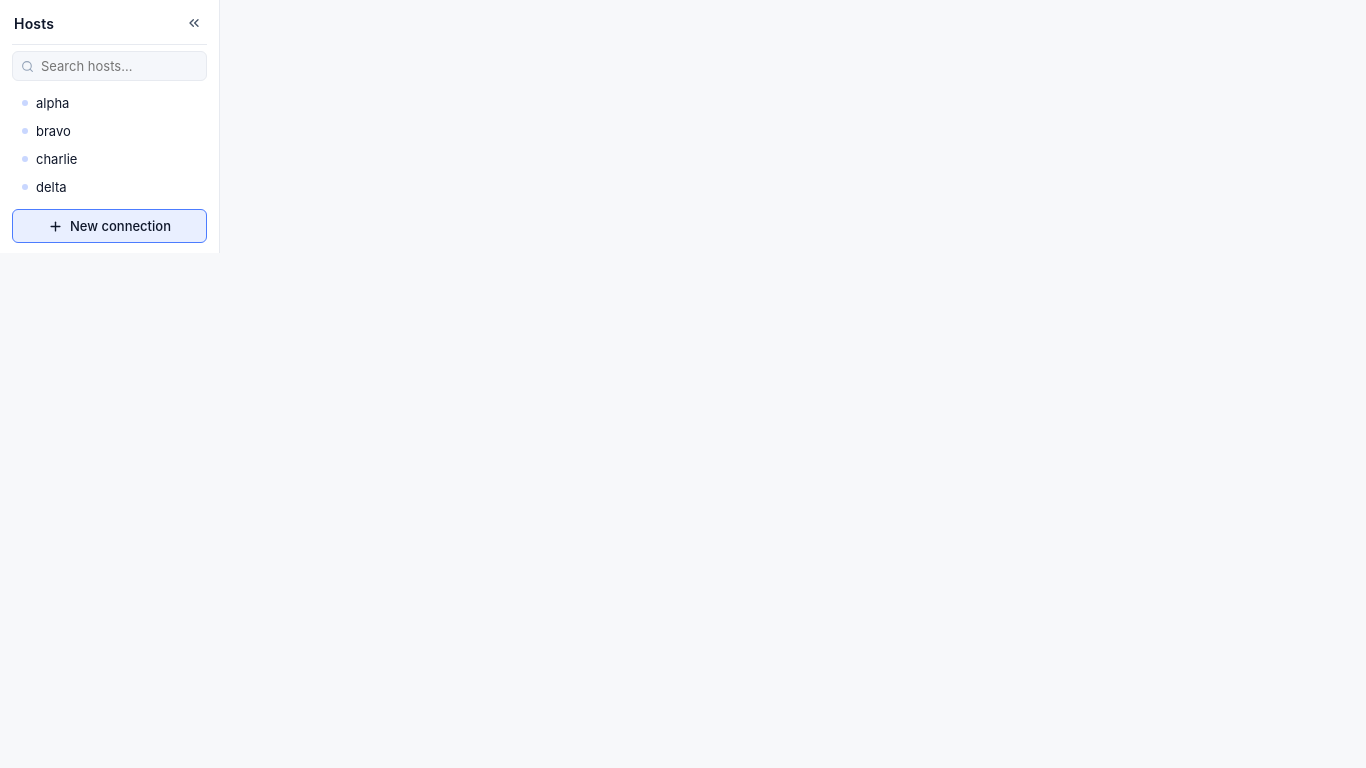
Test: Drawer multi-select › deletes every picked host after one confirmation
Type keys "{Control>}"
Click the button "alpha" at (94, 103), box [14,89,175,117]
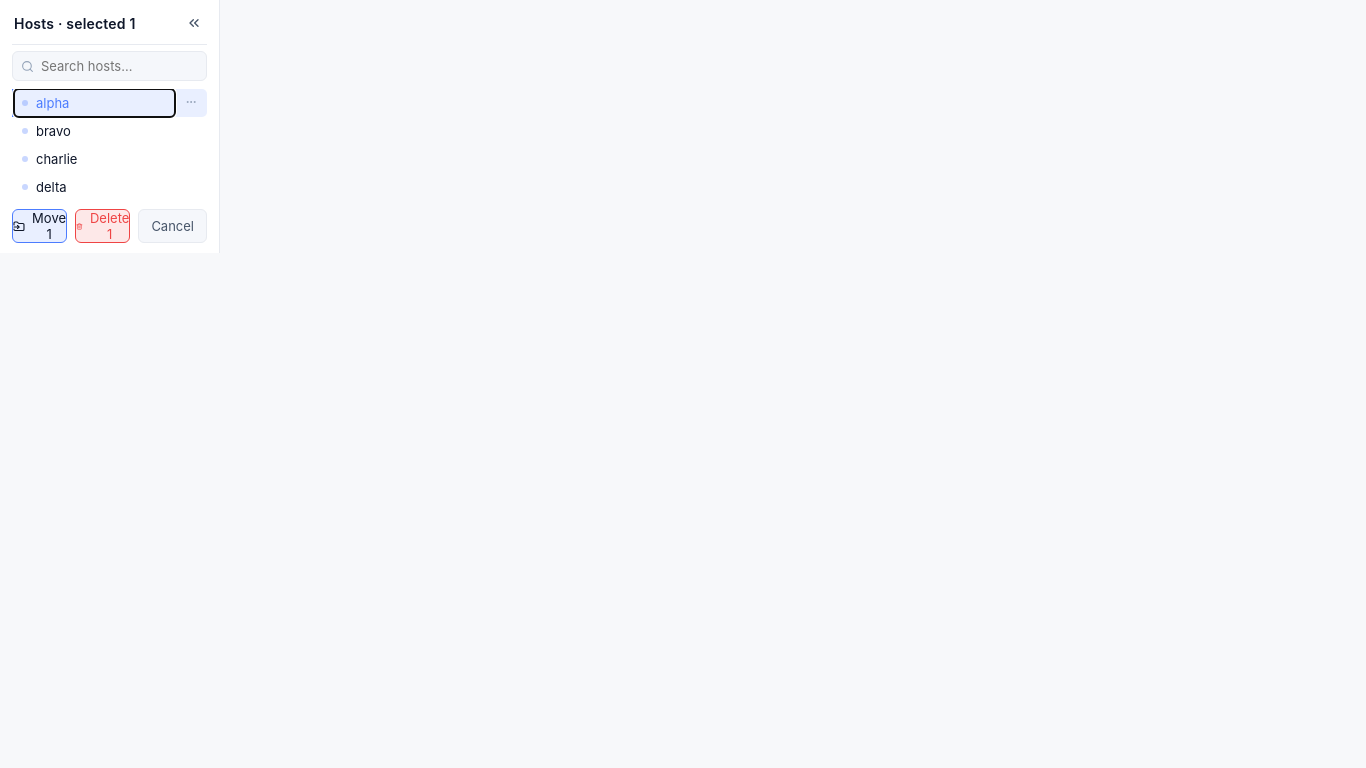
Click the button "charlie" at (94, 159), box [14,145,175,173]
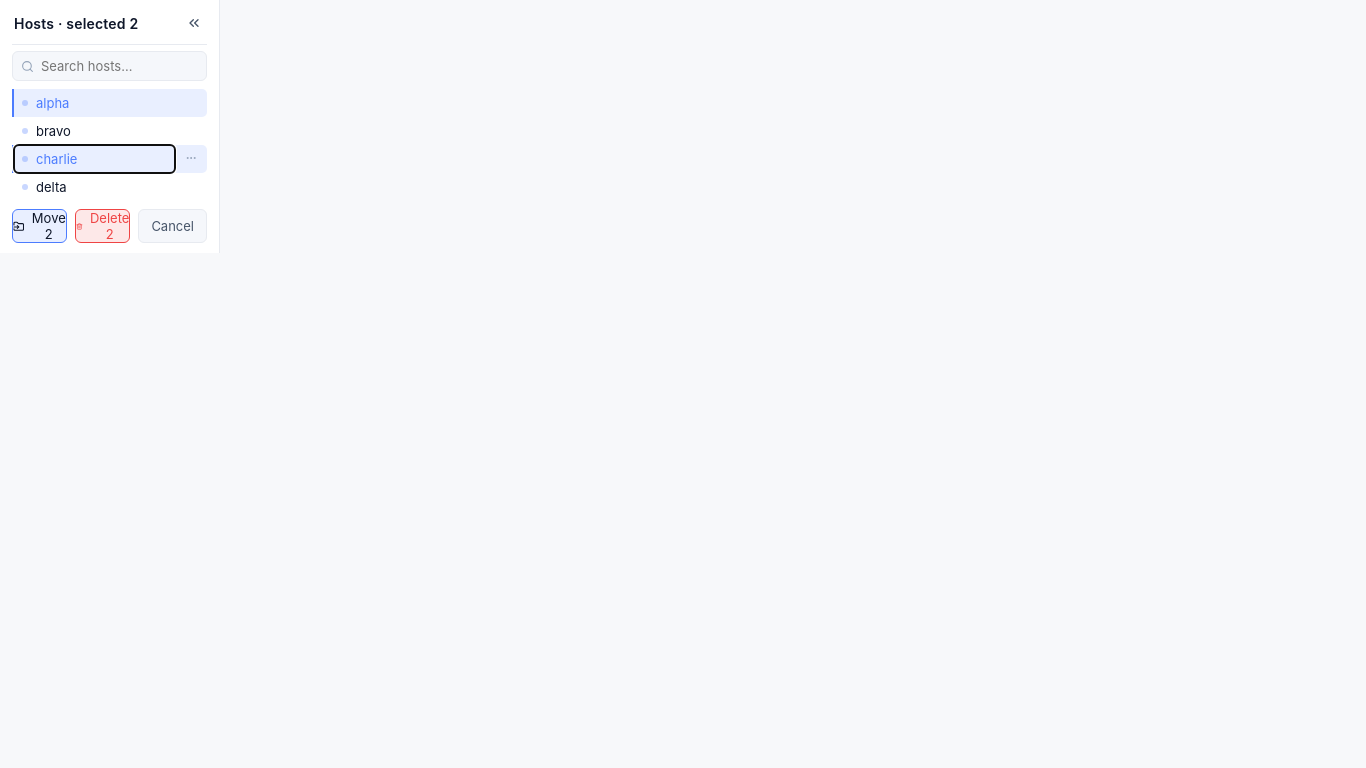
Type keys "{/Control}"
Click the button "Delete 2" at (103, 226), box [75,209,130,243]
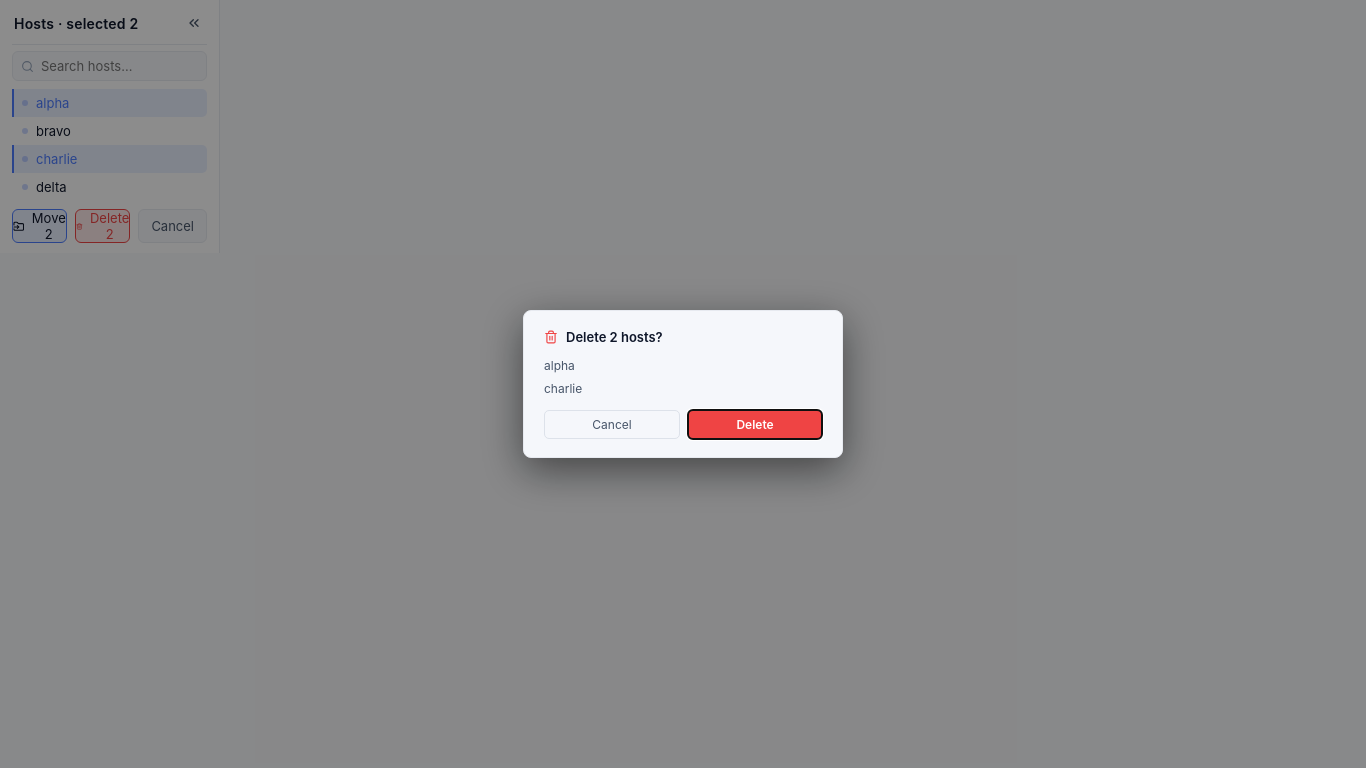
Result: the dialog named "confirm delete hosts" shows "alpha" at [544,358,575,373]
Result: the dialog named "confirm delete hosts" shows "charlie" at [544,380,582,396]
Click the button "Delete" at (755, 425), box [688,410,822,439]
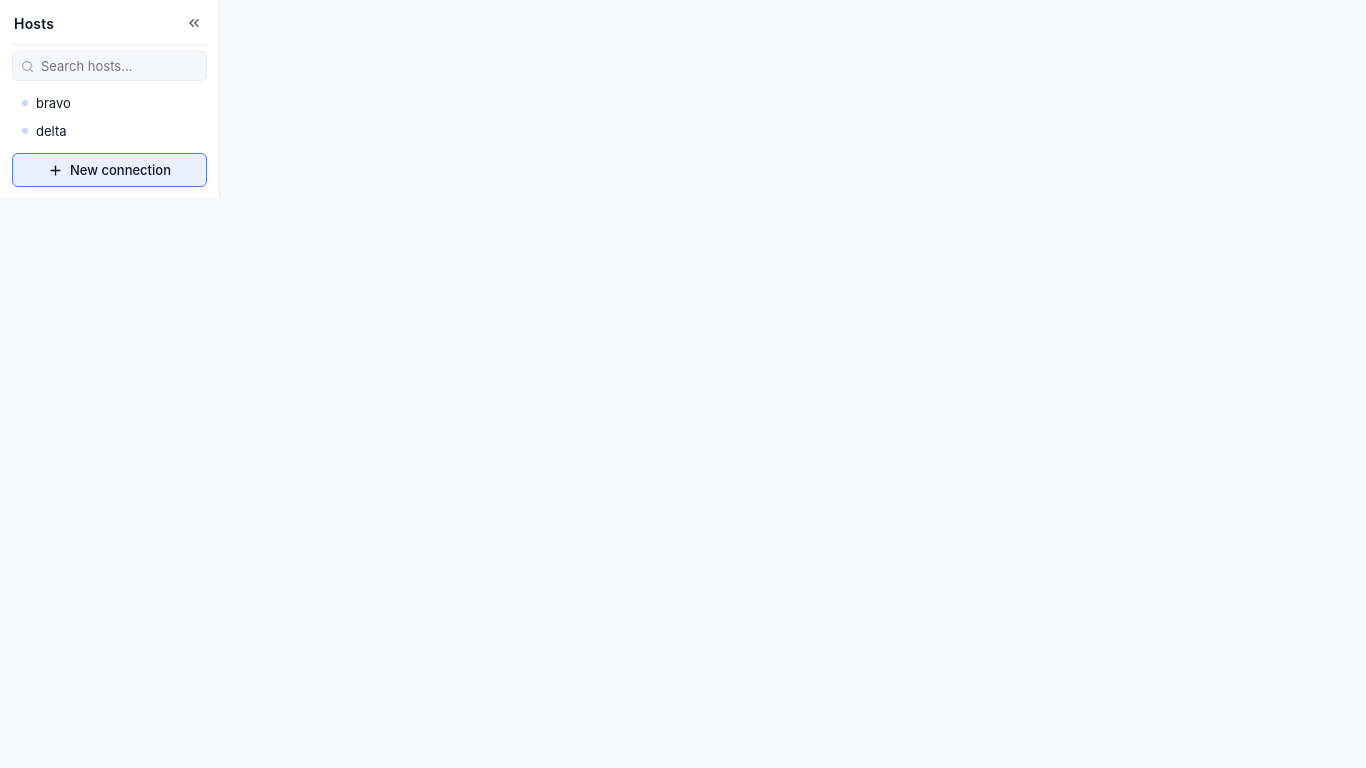
Result: the button "New connection" is shown at [12,153,207,187]
